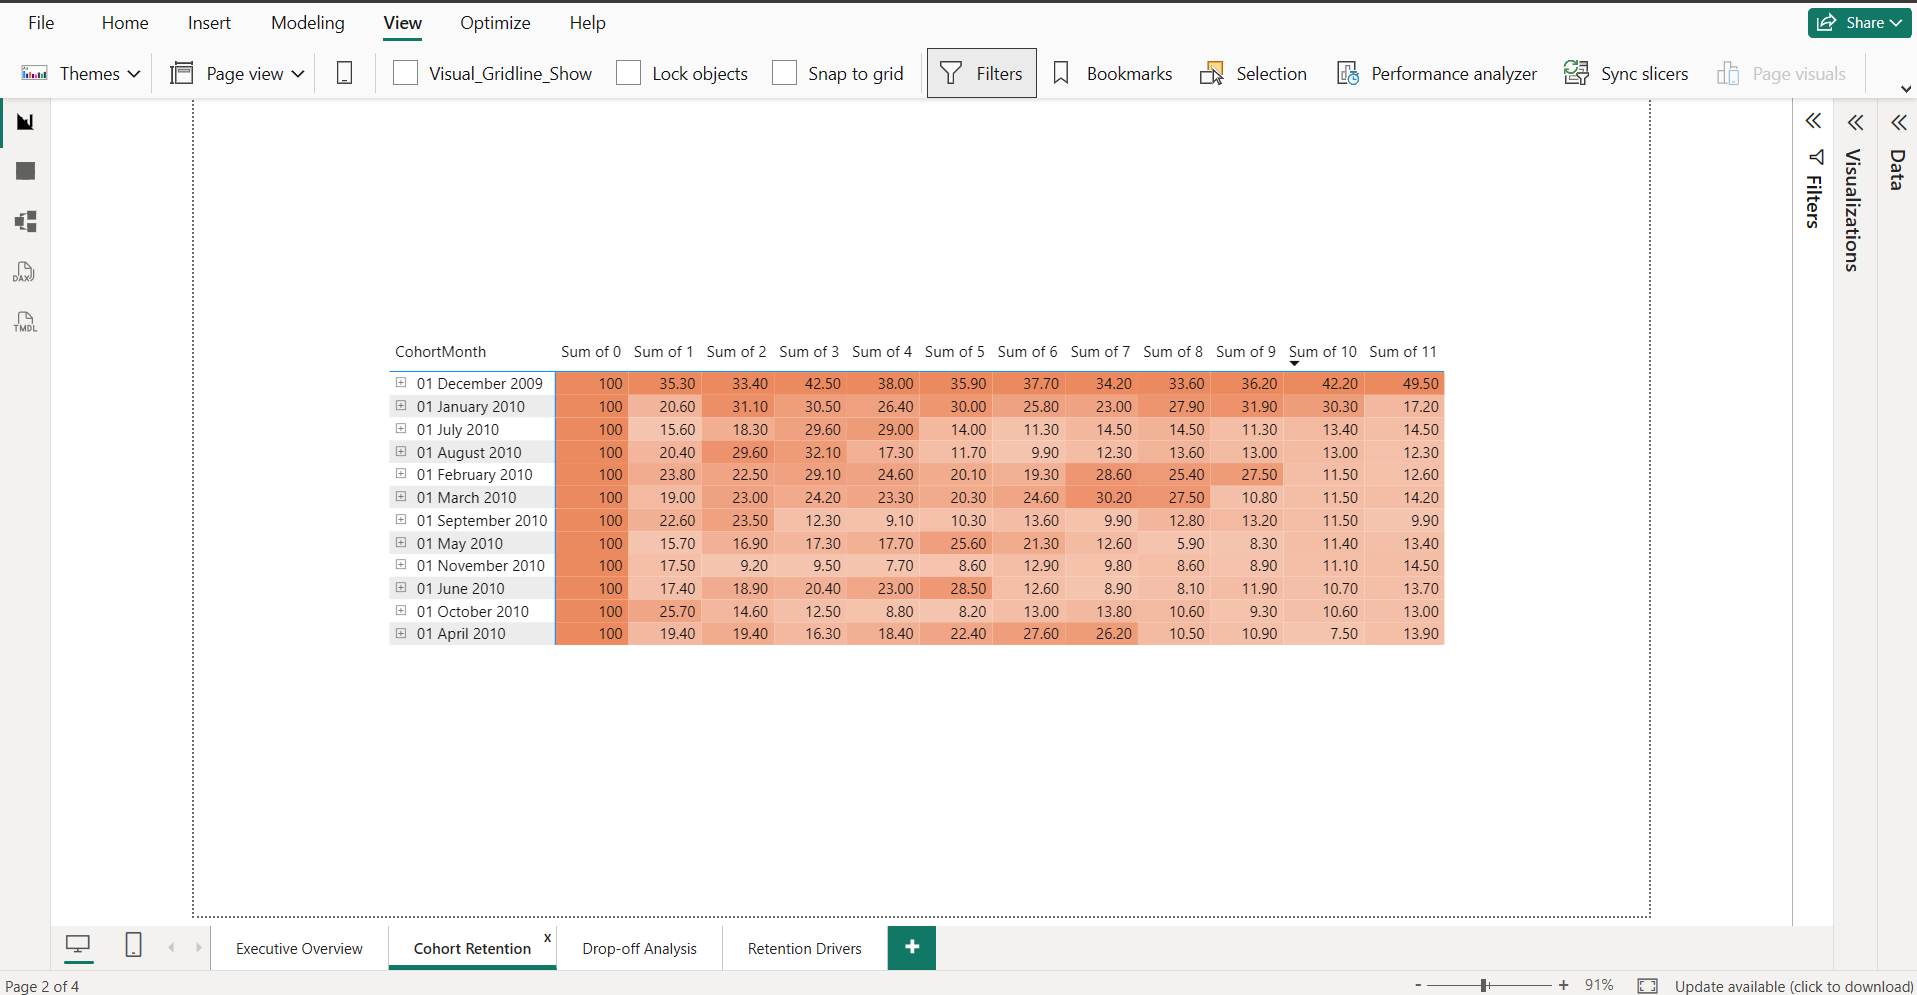

What the dashboard file says about the page in this screenshot:
{"tool":"powerbi","page":{"name":"Cohort Retention","canvas":[1280,720],"ordinal":1},"visuals":[{"type":"pivotTable","fields":{"Values":["Sum(cohort_retention_matrix.0)","Sum(cohort_retention_matrix.1)","Sum(cohort_retention_matrix.2)","Sum(cohort_retention_matrix.3)","Sum(cohort_retention_matrix.4)","Sum(cohort_retention_matrix.5)","Sum(cohort_retention_matrix.6)","Sum(cohort_retention_matrix.7)","Sum(cohort_retention_matrix.8)","Sum(cohort_retention_matrix.9)","Sum(cohort_retention_matrix.10)","Sum(cohort_retention_matrix.11)"],"Rows":["cohort_retention_matrix.CohortMonth","cleaned_ecommerce_orders.CohortMonth"]},"box":[167.4,207.2,1049.7,443.2],"z":0}]}

Visuals, with their boxes on the page's 1280x720 design canvas (x1, y1, x2, y2). These are canvas units, not pixel positions in the 1917x995 screenshot, which may show the page scaled, cropped or inside an application window:
pivotTable - Sum(cohort_retention_matrix.0) x Sum(cohort_retention_matrix.1): (left=167, top=207, right=1217, bottom=650)
